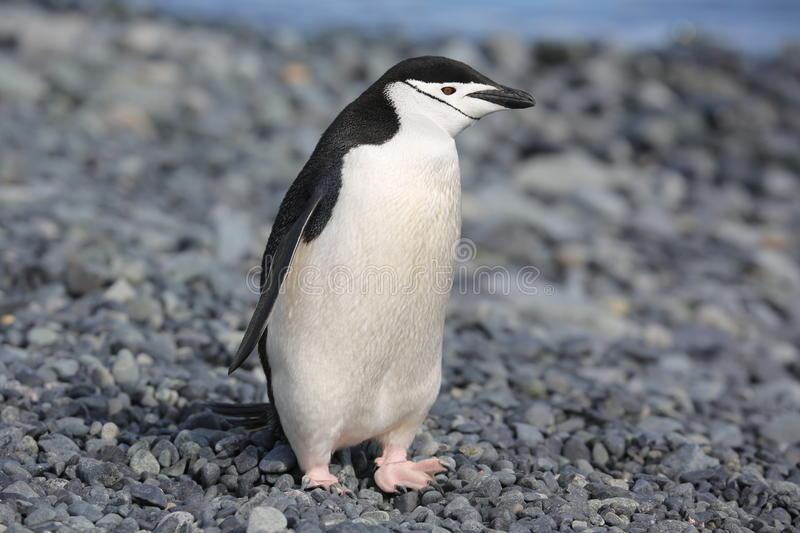chinstrap: (198, 35, 560, 496)
